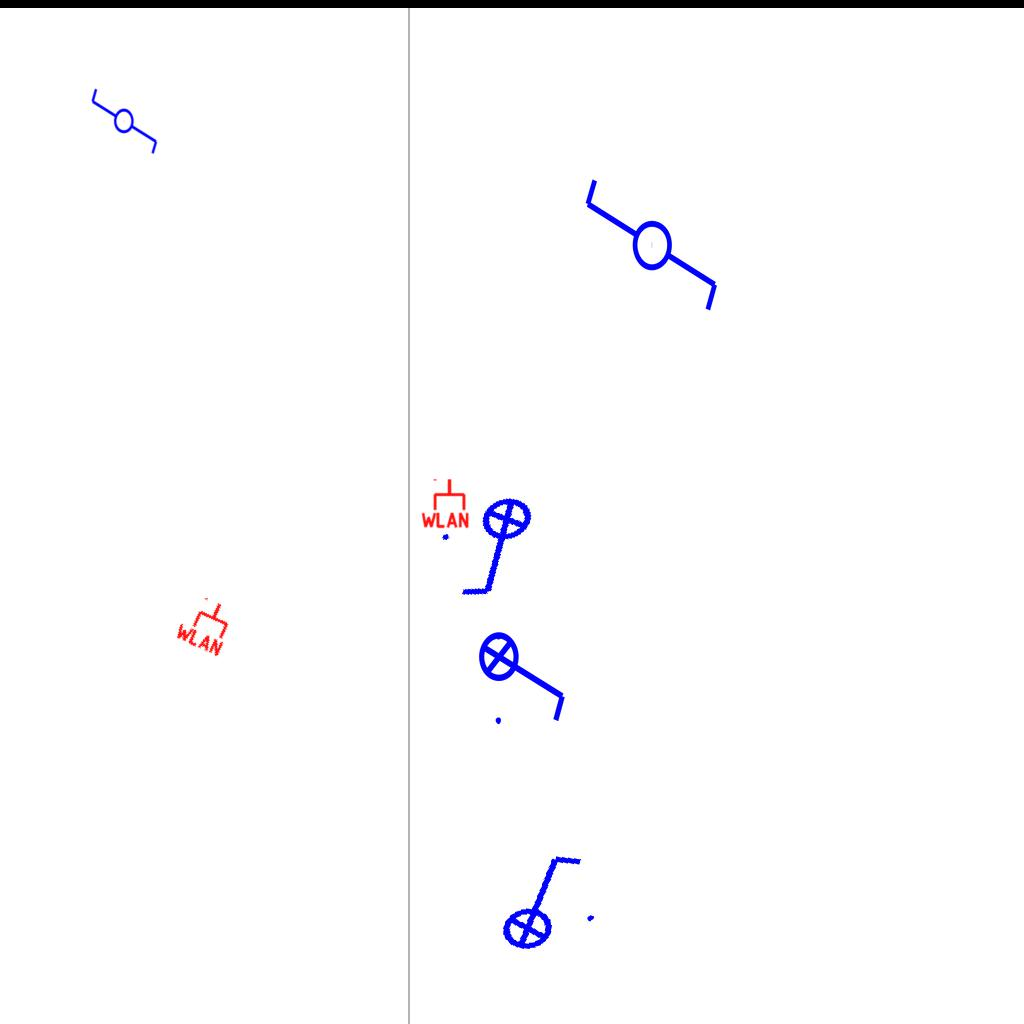Ausschalter_beleuchtet: (430, 486, 566, 612), (476, 843, 604, 957), (477, 618, 573, 730)
WLAN: (171, 589, 241, 659), (419, 477, 471, 529)
Wechselschalter: (578, 175, 722, 332), (89, 78, 161, 156)
